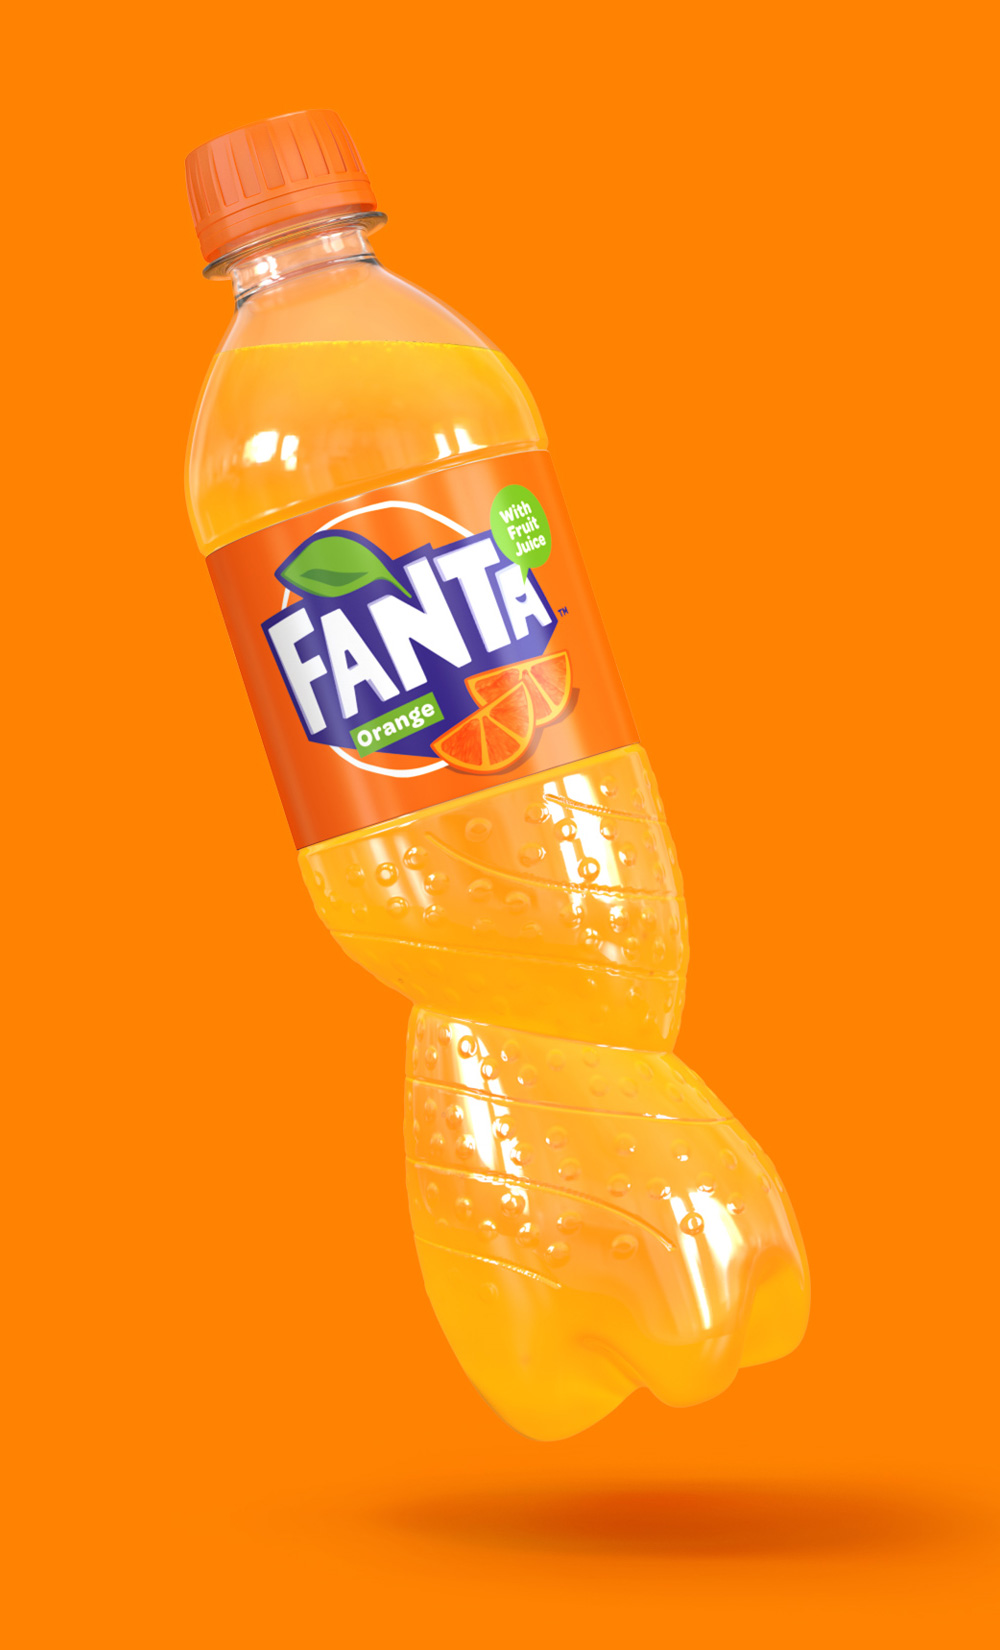Fanta: (110, 144, 834, 1427)
